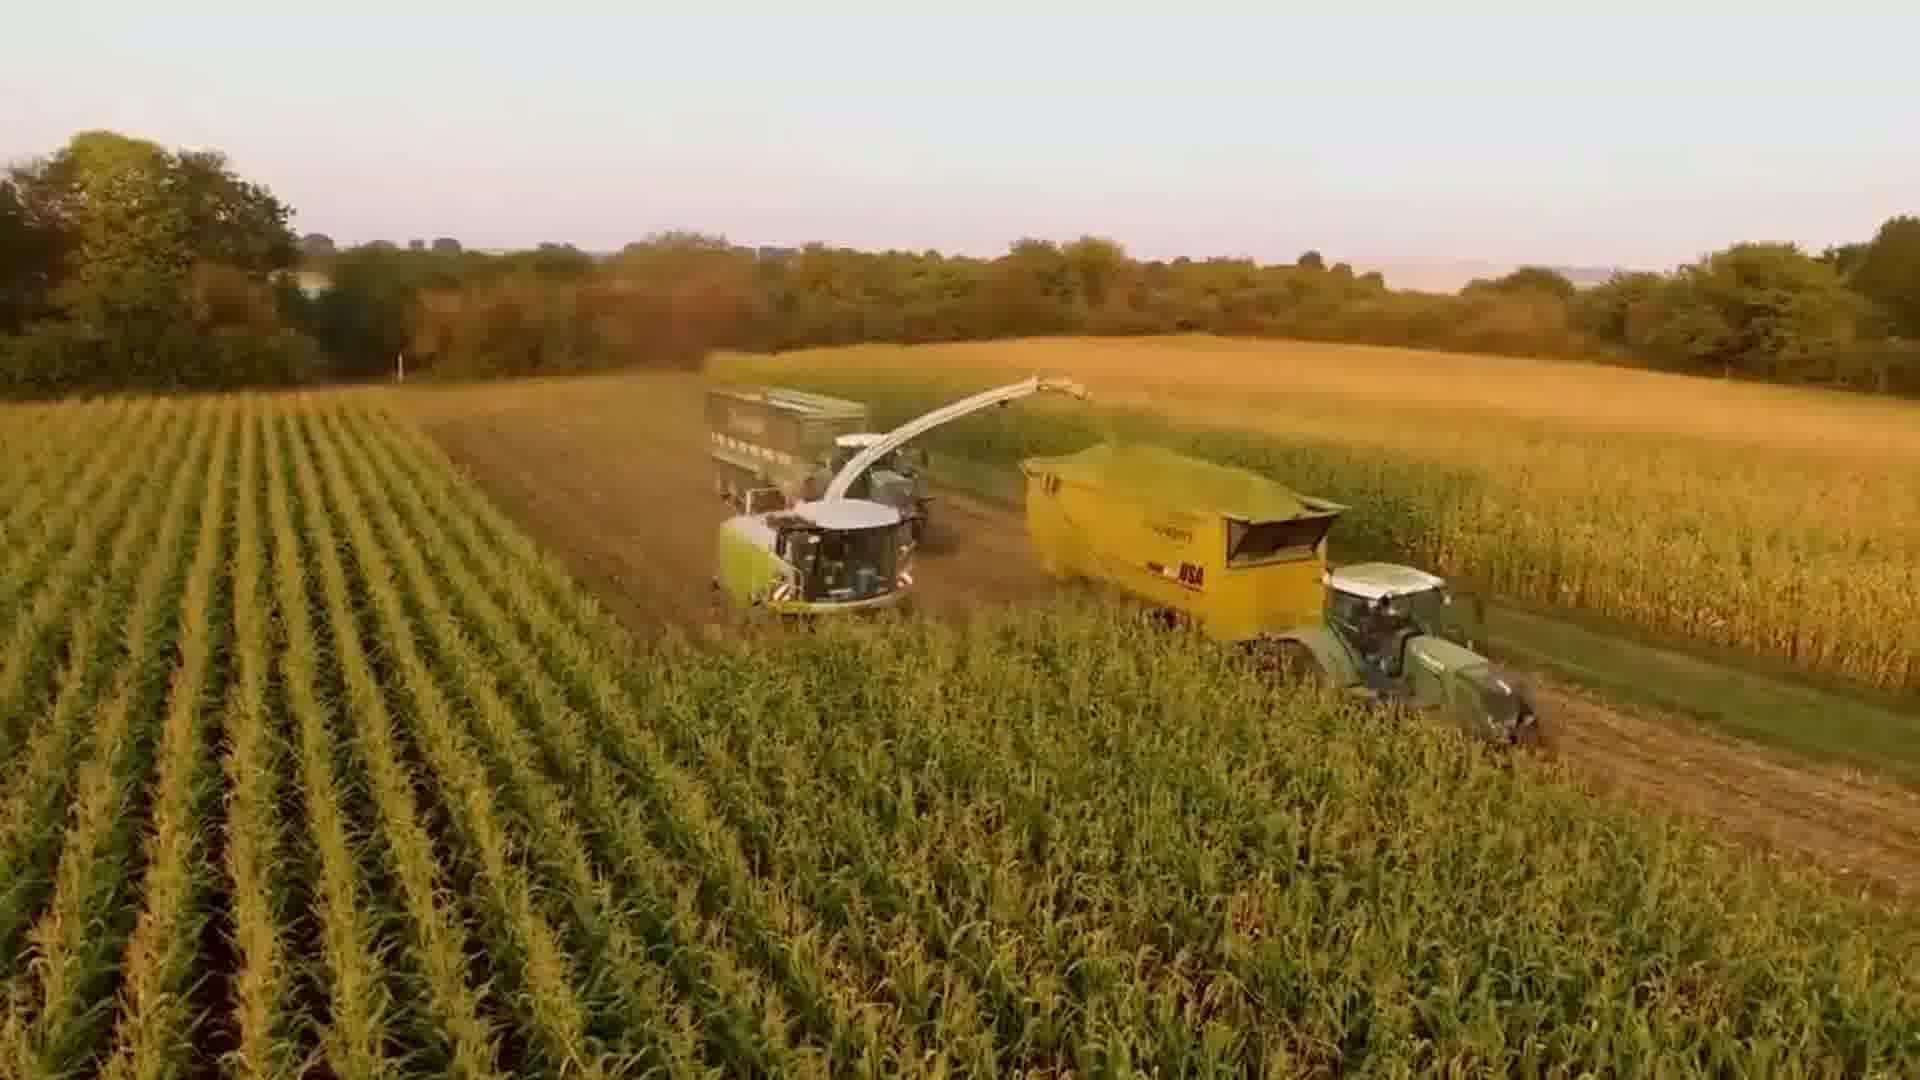combine harvester: (705, 368, 1054, 638)
tractor: (1254, 554, 1557, 769), (800, 425, 940, 538)
trailer: (1011, 426, 1349, 686), (699, 377, 870, 517)
